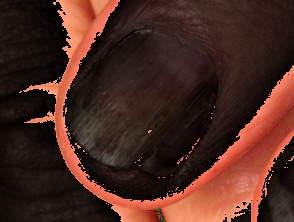Nail_psoriasis: (38, 0, 264, 222), (250, 142, 294, 222)
